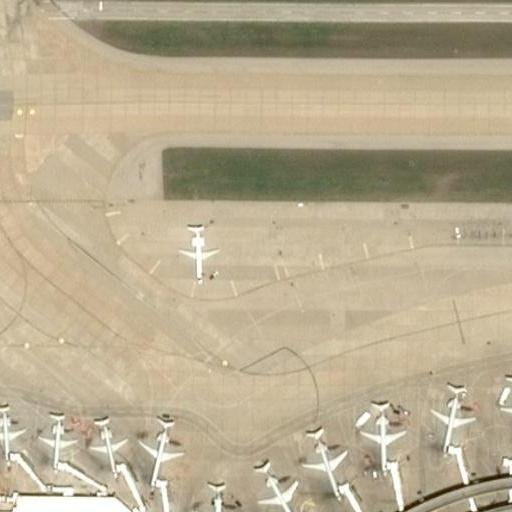Aircraft: (296, 427, 352, 494), (429, 382, 474, 452), (360, 401, 403, 469), (138, 415, 179, 485), (85, 416, 129, 479), (250, 461, 304, 512), (173, 221, 218, 281), (37, 410, 79, 473), (0, 404, 27, 466), (190, 484, 241, 512), (499, 368, 512, 435)
